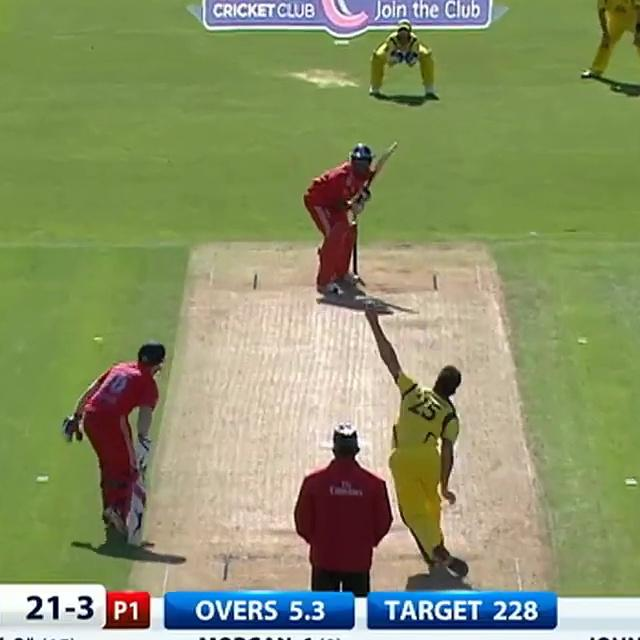umpire: (288, 414, 400, 596)
